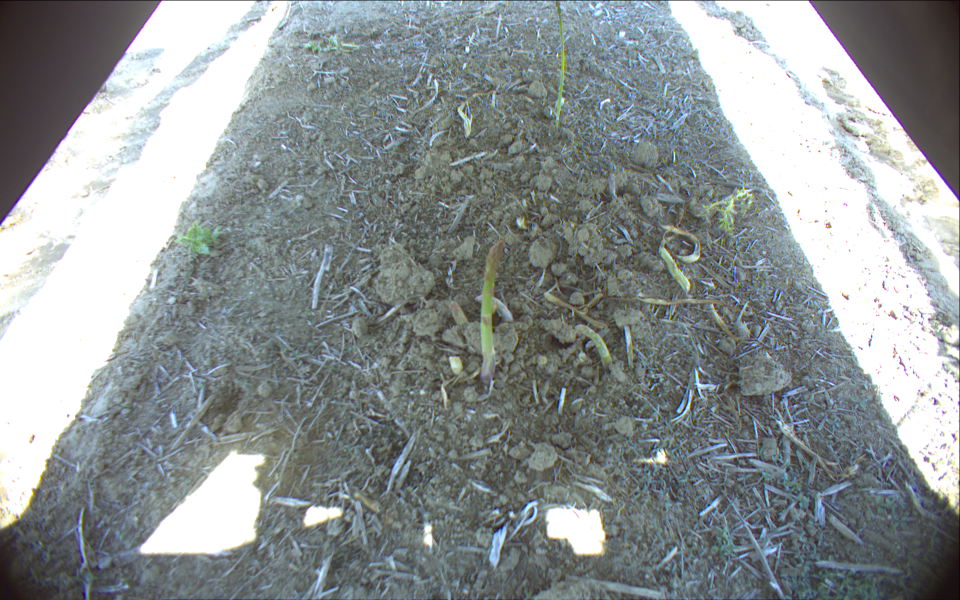aspa: (478, 238, 506, 383), (457, 88, 500, 140), (575, 325, 612, 368), (661, 243, 689, 293), (555, 1, 565, 124), (607, 162, 617, 200)
